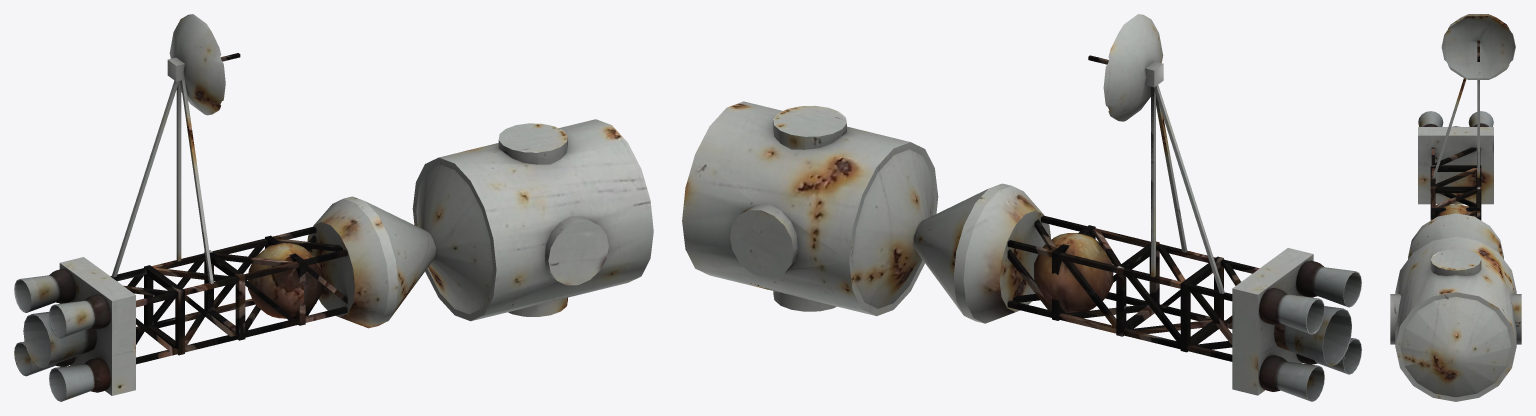
The model's file is research-vessel.obj.
3 views of the same model, side by side, from view 1: azimuth 30°, elevation 25°; view 2: azimuth 150°, elevation 25°; view 3: azimuth 270°, elevation 25° (orthographic). The views are drawn at different scales.
Parts seen in each view (by area): view 1: Research-Vessel; view 2: Research-Vessel; view 3: Research-Vessel.
Boxes of the visible parts, x1=… form: Research-Vessel: x1=14, y1=14, x2=653, y2=401; Research-Vessel: x1=682, y1=14, x2=1361, y2=401; Research-Vessel: x1=1390, y1=14, x2=1521, y2=401.
Bounding box in the file's own units: 99.5 × 55.23 × 26.
Materials: 1 (1 with a texture image).
